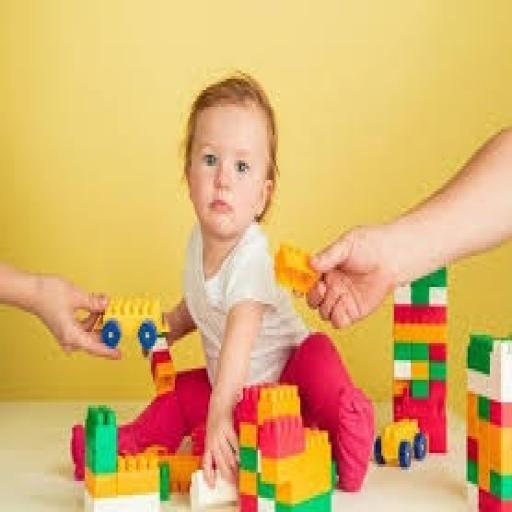baby: (120, 76, 373, 492)
